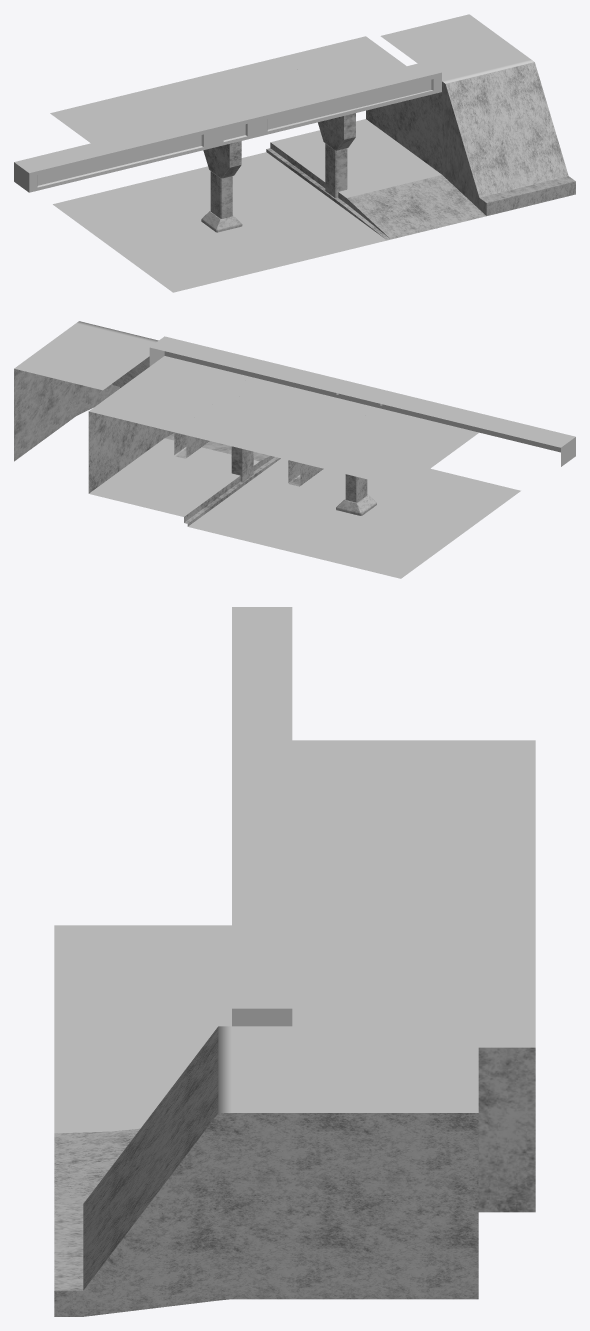
The model's file is Tunnel Model.fbx.
The picture shows the model from 3 angles, top to bottom: view 1: azimuth 30°, elevation 25°; view 2: azimuth 150°, elevation 25°; view 3: azimuth 270°, elevation 25°; orthographic projection. The views are drawn at different scales.
Visible parts, largest first — view 1: Roof_Road, Side_Boundry, SIdewalk, Start_Border, Road_Connecter, Connector, Pillar_center; view 2: Roof_Road, SIdewalk, Side_Boundry, Start_Border, Road_Connecter, Pillar_center, Connector; view 3: Side_Boundry, Roof_Road, Road_Connecter, SIdewalk, Start_Border, Connector.
Boxes of the visible parts, box(x1,y1,x2,y2) form: Roof_Road: box(50, 60, 342, 259); Side_Boundry: box(380, 14, 575, 215); SIdewalk: box(266, 36, 441, 207); Start_Border: box(14, 61, 441, 192); Road_Connecter: box(129, 208, 386, 292); Connector: box(342, 175, 486, 240); Pillar_center: box(201, 141, 242, 232); Roof_Road: box(185, 379, 478, 578); SIdewalk: box(88, 356, 263, 526); Side_Boundry: box(14, 321, 174, 461); Start_Border: box(149, 336, 575, 466); Road_Connecter: box(264, 458, 520, 523); Pillar_center: box(288, 460, 376, 515); Connector: box(165, 433, 280, 470); Side_Boundry: box(54, 1026, 478, 1316); Roof_Road: box(292, 740, 535, 953); Road_Connecter: box(54, 925, 231, 1133); SIdewalk: box(292, 953, 535, 1212); Start_Border: box(232, 607, 292, 1026); Connector: box(54, 1128, 139, 1203).
Size of the model in its own units: 2530 by 535 by 1054.
